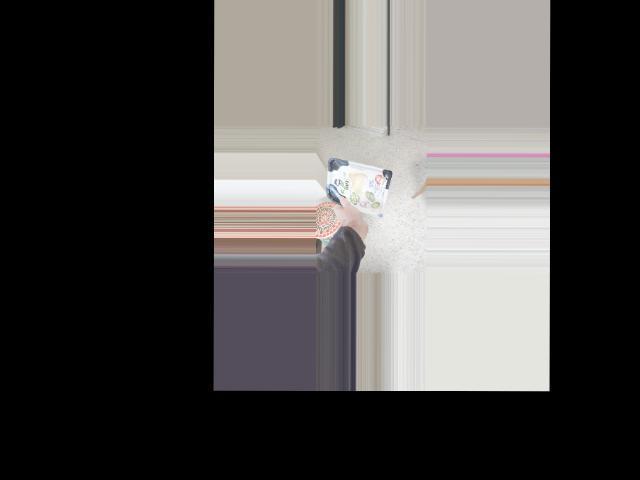cheese: (321, 163, 393, 211)
